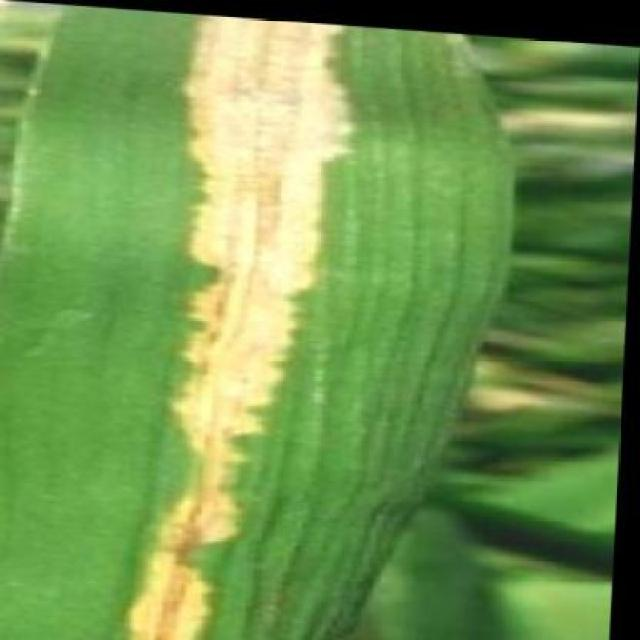Brown_Spot: (12, 3, 496, 640)
